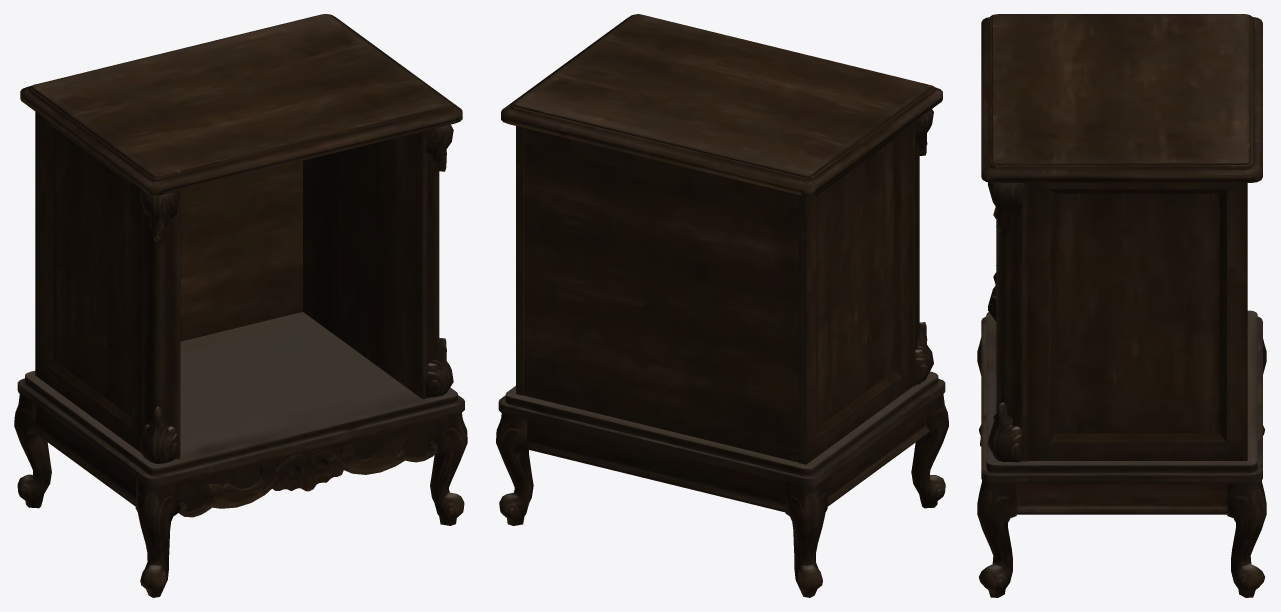
The model's file is ClassicNightstand_01.glb.
3 renders of one model, left to right at view 1: azimuth 30°, elevation 25°; view 2: azimuth 150°, elevation 25°; view 3: azimuth 270°, elevation 25°, orthographic. The views are drawn at different scales.
Visible parts, largest first — view 1: ClassicNightstand_01; view 2: ClassicNightstand_01; view 3: ClassicNightstand_01.
Part boxes in pixels (x1=…): ClassicNightstand_01: x1=14, y1=14, x2=467, y2=597; ClassicNightstand_01: x1=496, y1=14, x2=948, y2=597; ClassicNightstand_01: x1=977, y1=14, x2=1266, y2=597.
Bounding box in the file's own units: 0.5678 × 0.7 × 0.4242.
1 material, 1 textured.
